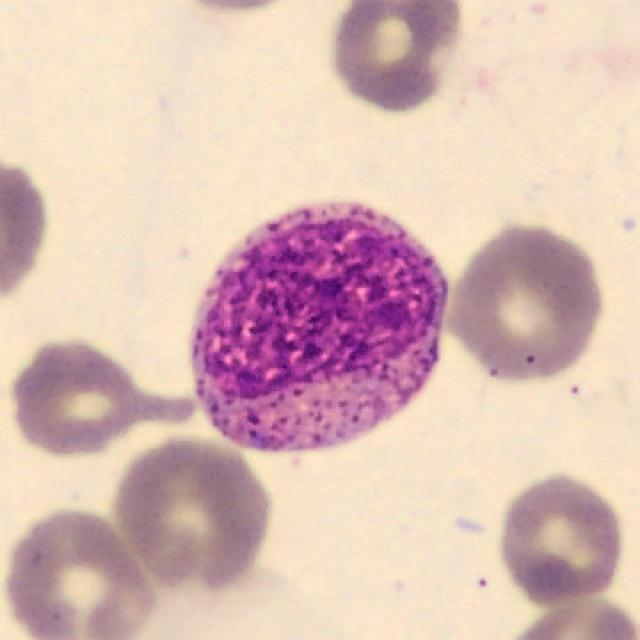Mielocito: (192, 201, 450, 457)
